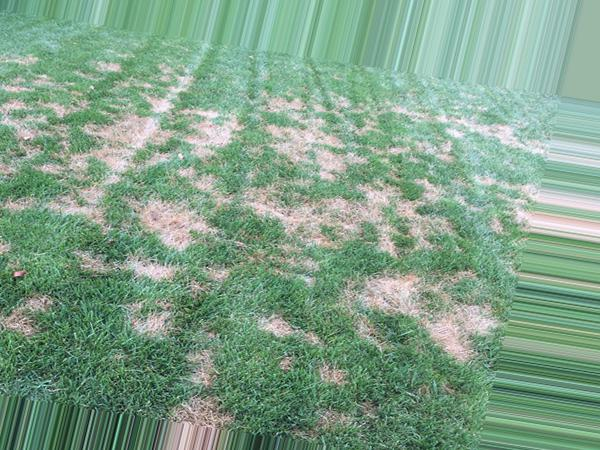patch: (144, 197, 201, 244), (375, 276, 417, 314), (282, 209, 329, 236), (114, 114, 149, 147)
